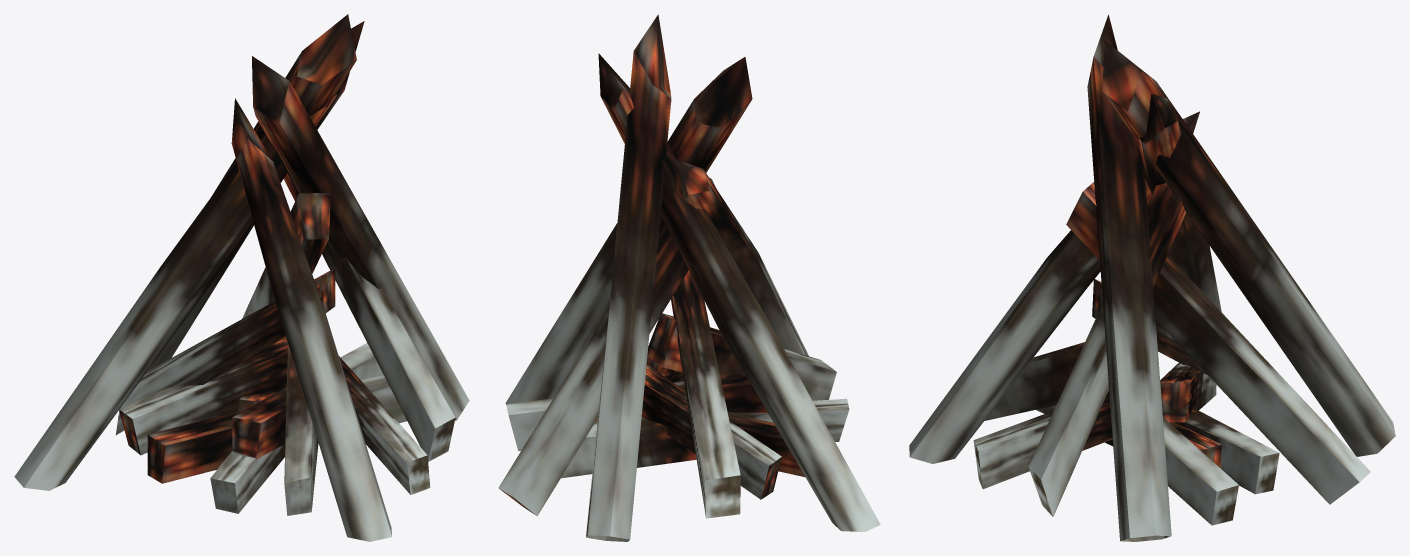
File: S_Build_Snowland110.FBX
The picture shows the model from 3 angles, left to right: view 1: azimuth 30°, elevation 25°; view 2: azimuth 150°, elevation 25°; view 3: azimuth 270°, elevation 25°; orthographic projection. The views are drawn at different scales.
Visible parts, largest first — view 1: S_Build_Snowland110; view 2: S_Build_Snowland110; view 3: S_Build_Snowland110.
Boxes of the visible parts, box(x1,y1,x2,y2) form: S_Build_Snowland110: box(14, 14, 469, 541); S_Build_Snowland110: box(498, 14, 880, 541); S_Build_Snowland110: box(909, 14, 1395, 541).
Bounding box in the file's own units: 391 × 393 × 403.
